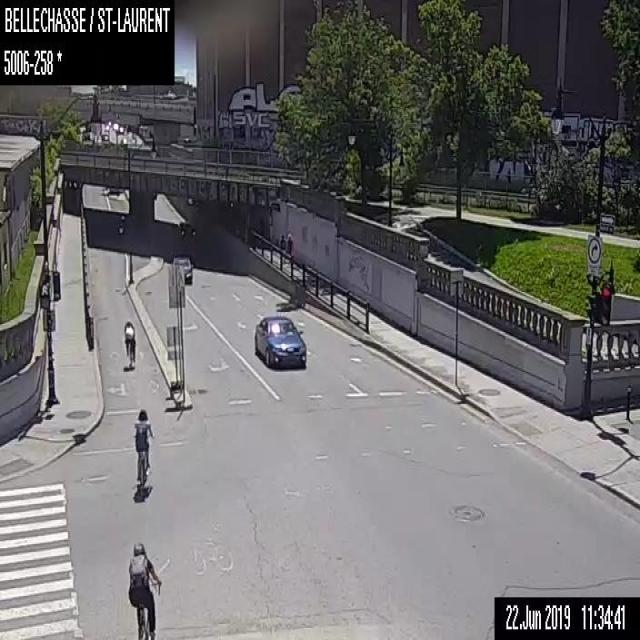cyclist: (127, 542, 161, 638), (133, 409, 152, 503), (124, 322, 136, 369)
pedestrian: (278, 234, 285, 263), (286, 232, 292, 261)
vehicle: (253, 316, 306, 369), (172, 256, 192, 284), (177, 220, 196, 241)
